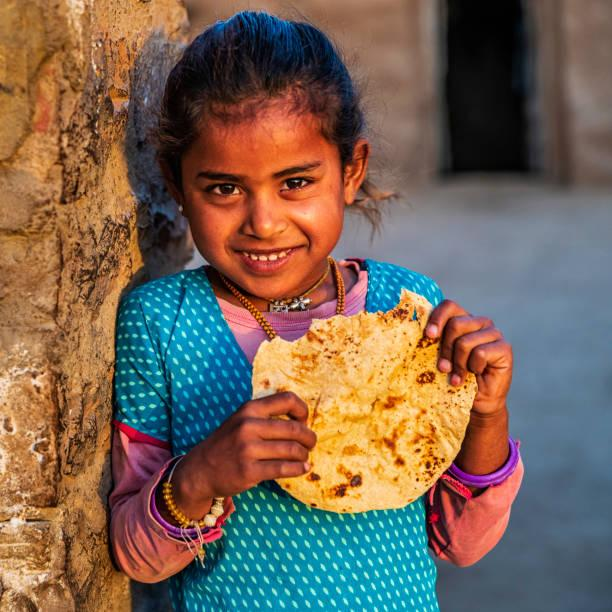Human: (71, 2, 571, 612)
